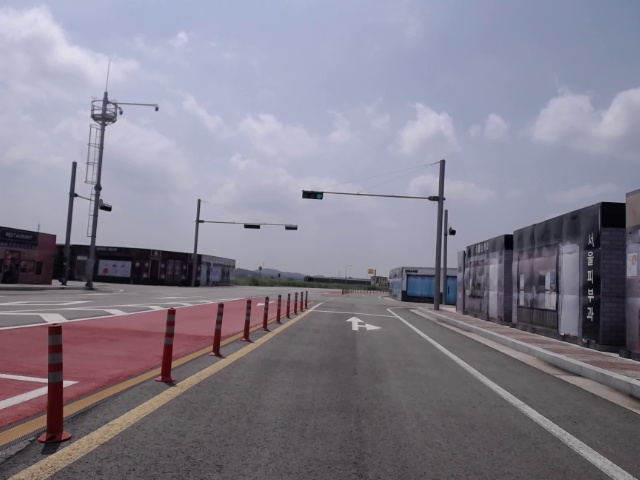green_3: (302, 190, 323, 200)
